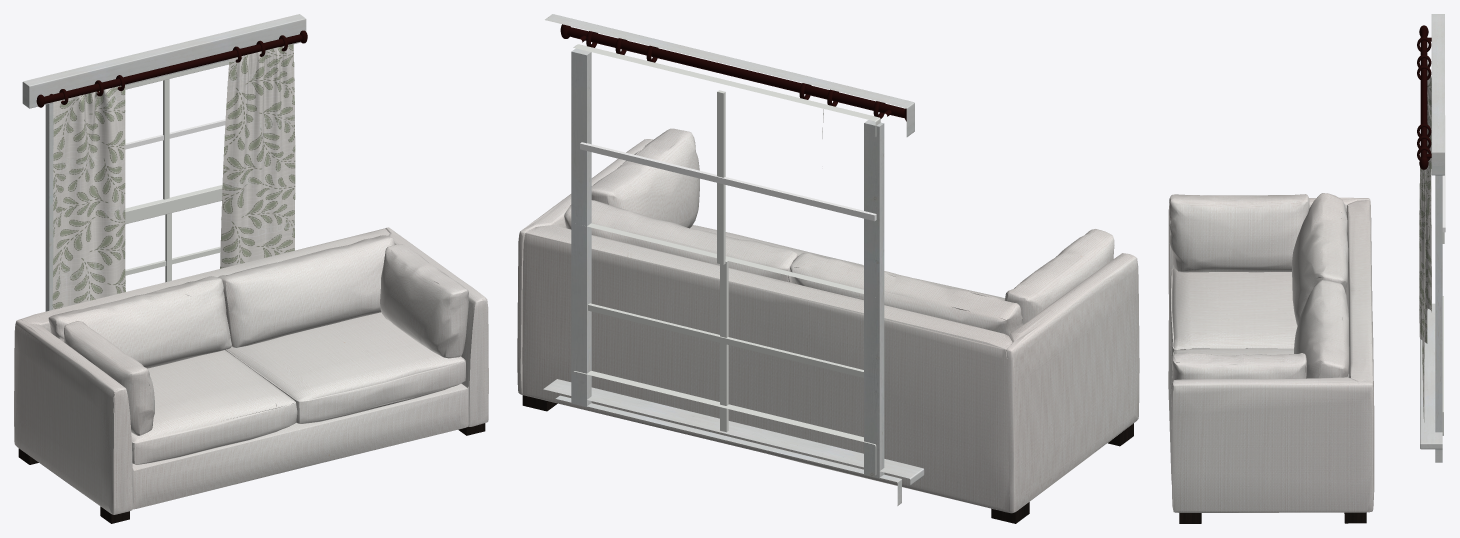
File: sofaDraco.glb
3 renders of one model, left to right at view 1: azimuth 30°, elevation 25°; view 2: azimuth 150°, elevation 25°; view 3: azimuth 270°, elevation 25°, orthographic. The views are drawn at different scales.
Parts seen in each view (by area): view 1: sofa (×3), Curtain (×2), Window_Frame1, Rod, Window_Frame8, Window_Frame, Window_Frame3, 100690objcleanermaterialmergergles, Window_Frame2, Window_Frame6; view 2: sofa (×3), Window_Frame8, Window_Frame9, Window_Frame10, Window_Frame1, Rod, Window_Frame2, Window_Frame6, Window_Frame7, Window_Frame11, Window_Frame4, Window_Frame3 (+3 smaller); view 3: sofa (×3), Curtain (×2), Window_Frame1, Window_Frame10, Window_Frame9, Rod, 100690objcleanermaterialmergergles.
Boxes of the visible parts, x1,y1,x2,y2 form: sofa (×3): [14, 227, 488, 514]; Curtain (×2): [52, 44, 295, 309]; Window_Frame1: [22, 14, 306, 108]; Rod: [44, 34, 302, 103]; Window_Frame8: [45, 103, 53, 311]; Window_Frame: [125, 185, 222, 224]; Window_Frame3: [163, 79, 169, 199]; 100690objcleanermaterialmergergles: [18, 423, 485, 523]; Window_Frame2: [125, 119, 225, 149]; Window_Frame6: [125, 246, 220, 275]; sofa (×3): [517, 128, 1139, 513]; Window_Frame8: [864, 120, 884, 478]; Window_Frame9: [571, 48, 591, 406]; Window_Frame10: [543, 379, 924, 485]; Window_Frame1: [545, 14, 914, 136]; Rod: [567, 27, 905, 118]; Window_Frame2: [580, 142, 876, 221]; Window_Frame6: [588, 303, 863, 377]; Window_Frame7: [573, 44, 880, 136]; Window_Frame11: [555, 395, 901, 505]; Window_Frame4: [573, 370, 876, 475]; Window_Frame3: [717, 90, 725, 264]; sofa (×3): [1168, 193, 1374, 512]; Curtain (×2): [1419, 61, 1431, 422]; Window_Frame1: [1431, 14, 1444, 175]; Window_Frame10: [1420, 303, 1442, 449]; Window_Frame9: [1435, 175, 1442, 432]; Rod: [1420, 30, 1427, 157]; 100690objcleanermaterialmergergles: [1179, 512, 1366, 523].
Size of the model in its own units: 10.72 by 9.05 by 6.61.
6 materials, 6 textured.
